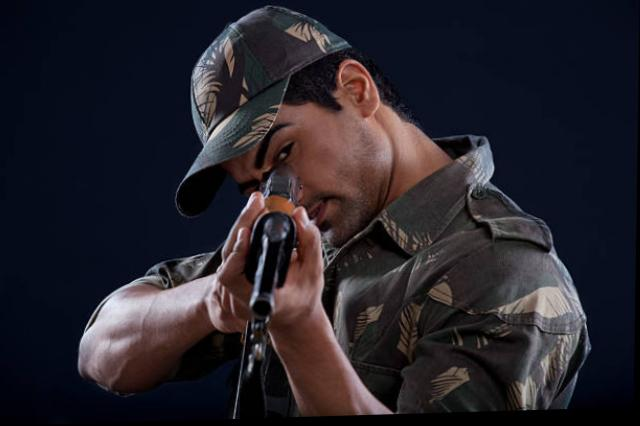other: (148, 24, 495, 420)
